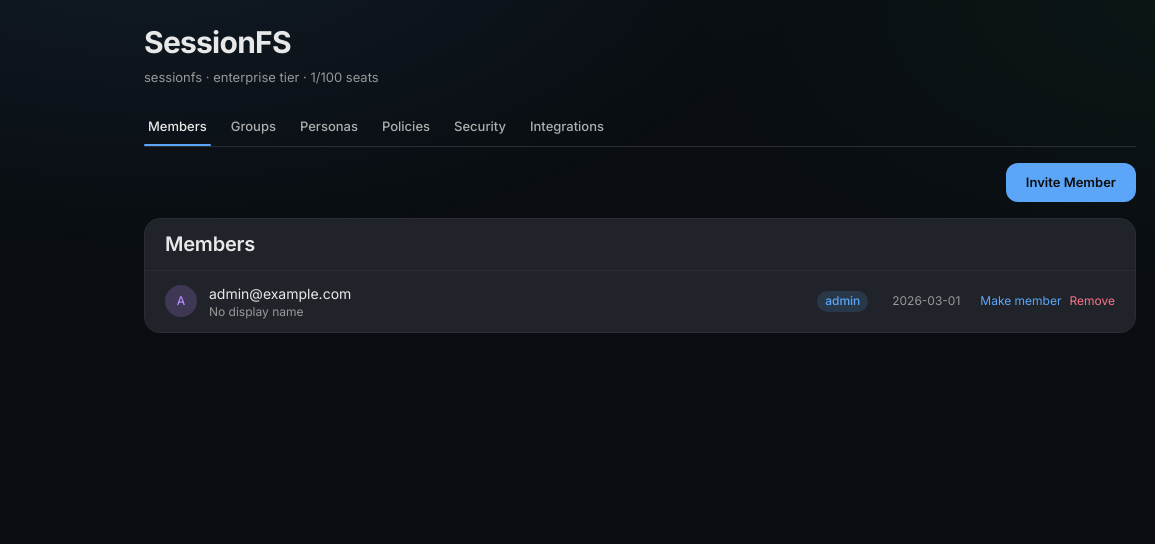
OrgPage › invite error surfaces the server error message
Click the button "Invite Member": (1071, 182) [1006,163,1136,202]
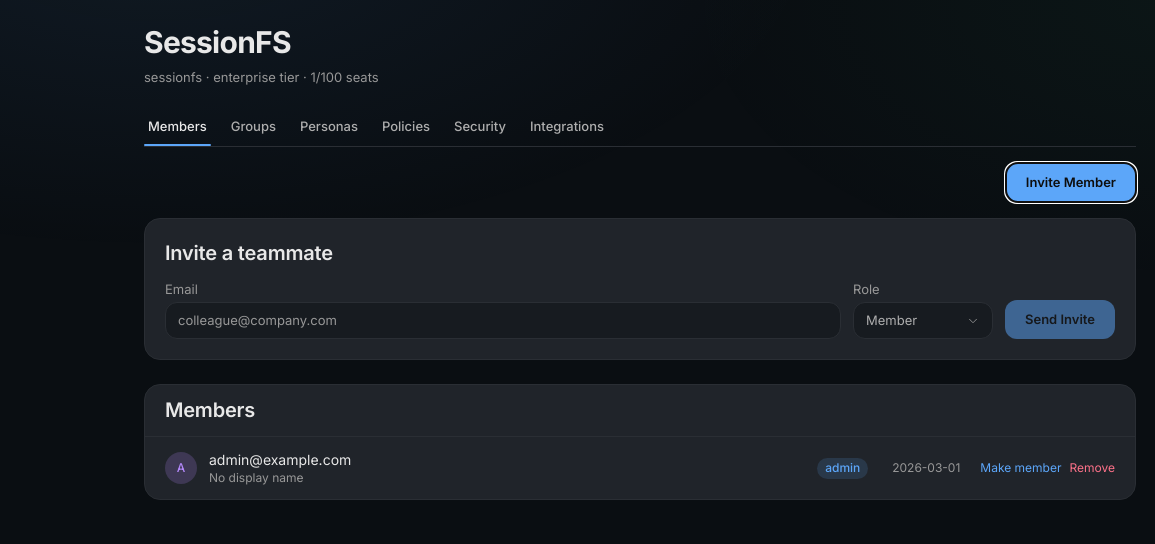
In the field with placeholder "colleague@company.com": (503, 321) [165,302,841,339], type "x@example.com"
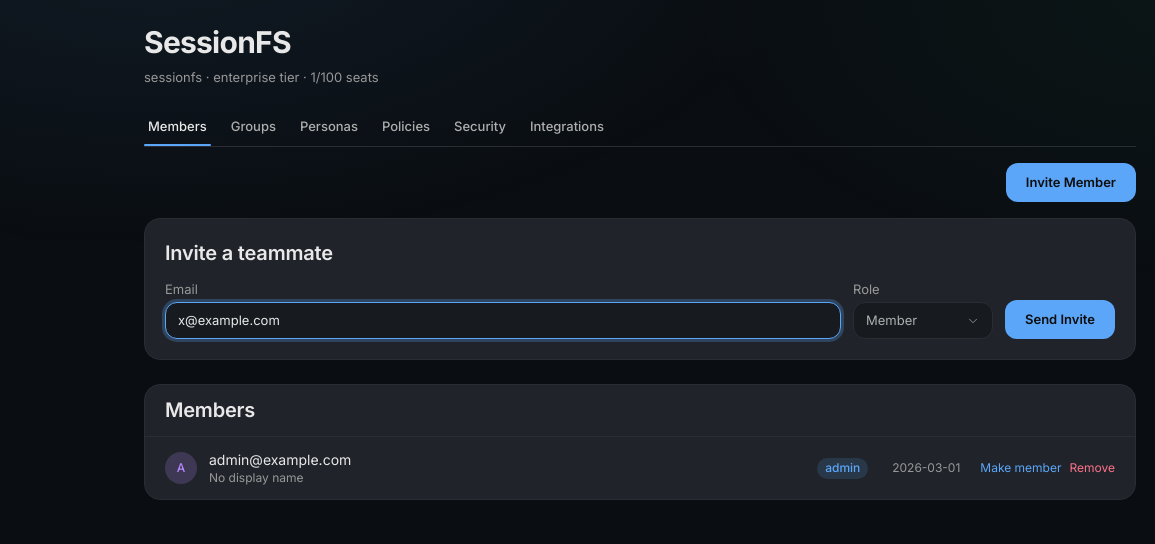
Click the button "Send Invite": (1060, 320) [1005,300,1115,339]
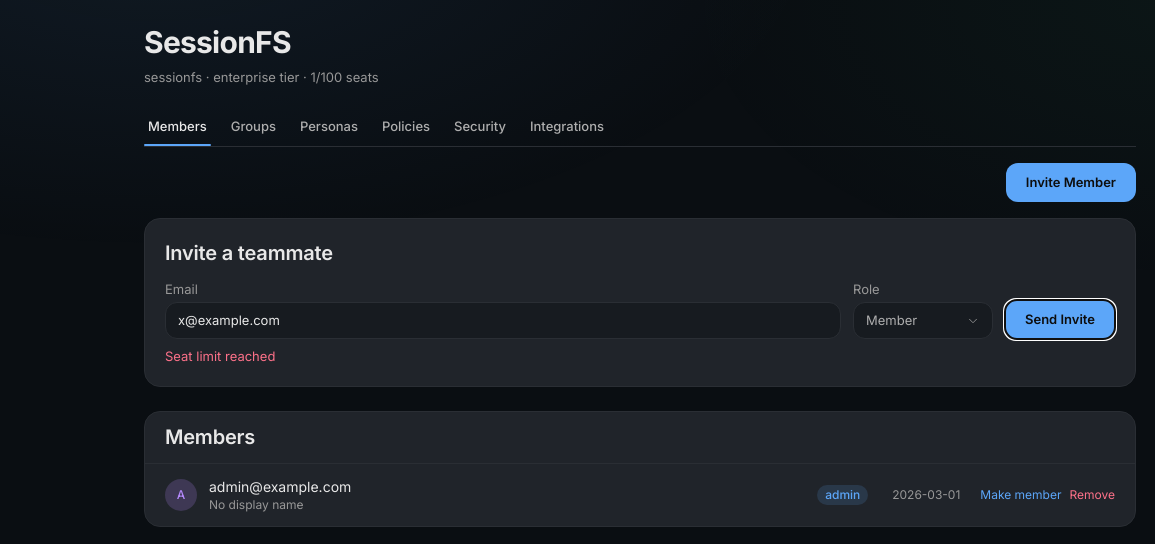
expect the text "Seat limit reached" is shown: met, box [165,348,275,364]
